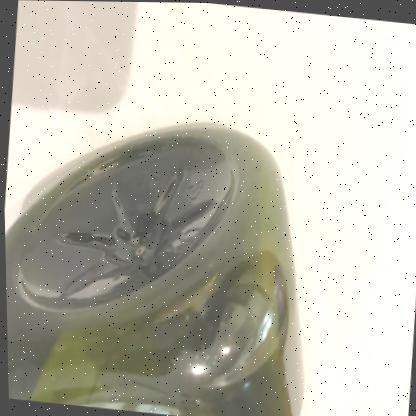Plastic: (4, 126, 301, 416)
